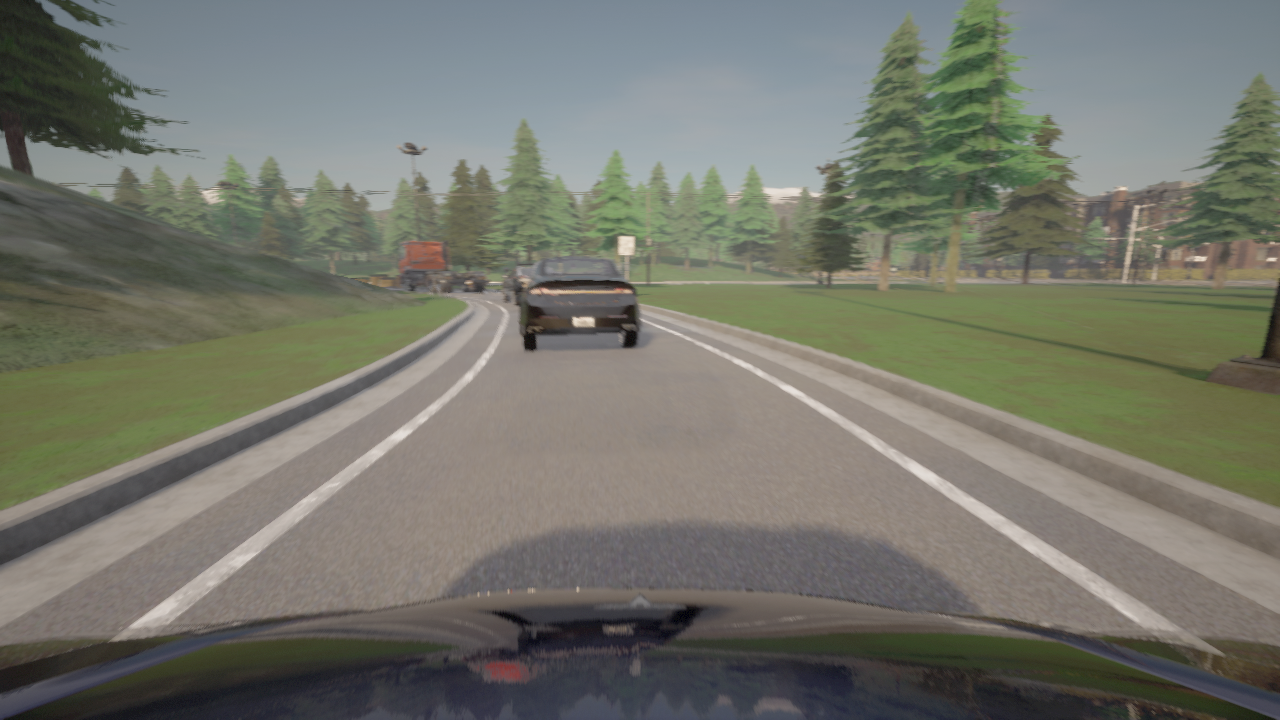cyclist: (0, 588, 1279, 719), (518, 256, 639, 350), (395, 240, 488, 293), (502, 263, 535, 305)
